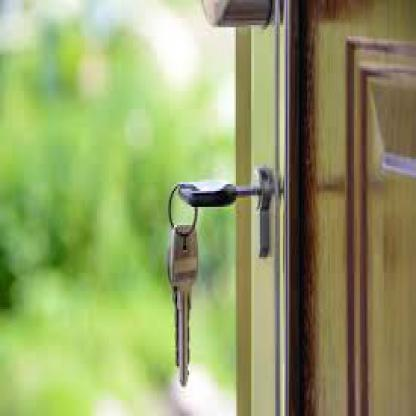keys: (166, 222, 200, 390)
